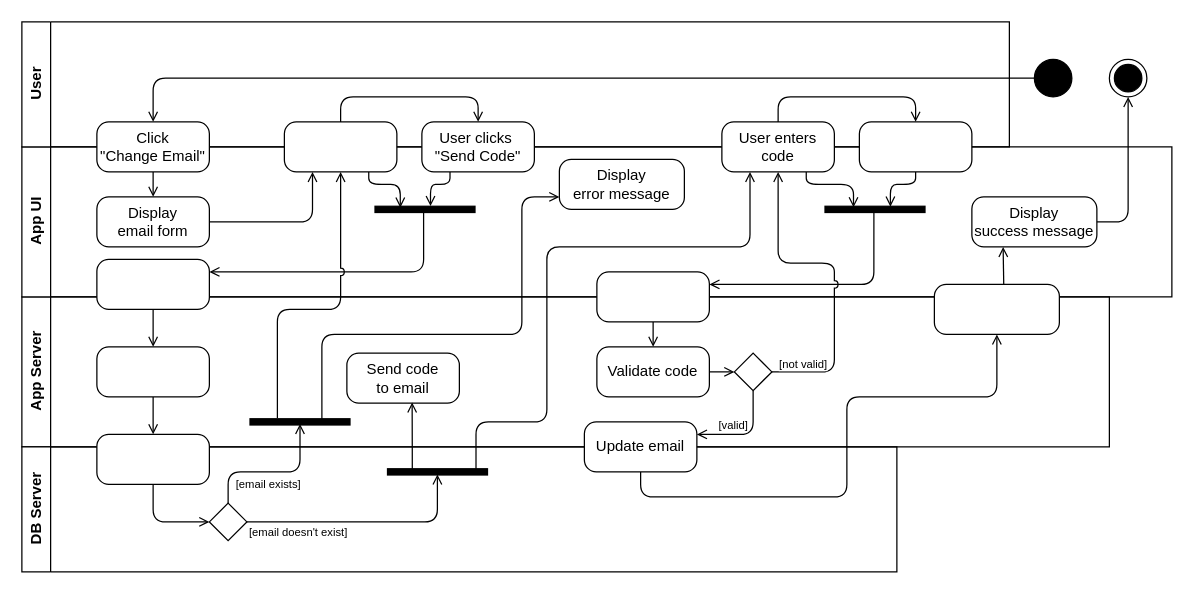
Image size: 1194x594. Some labels were removed from this diagram. The shapes that lost their labels are listed below. From the top down, each one's centre as x and y in pixels, then its label:
(340,146): User enters new email
(915,146): User clicks "Confirm"
(152,283): Request to change email
(652,296): Request to validate code
(996,308): Respond with success message
(152,371): Validate email
(152,458): Check if email exists
